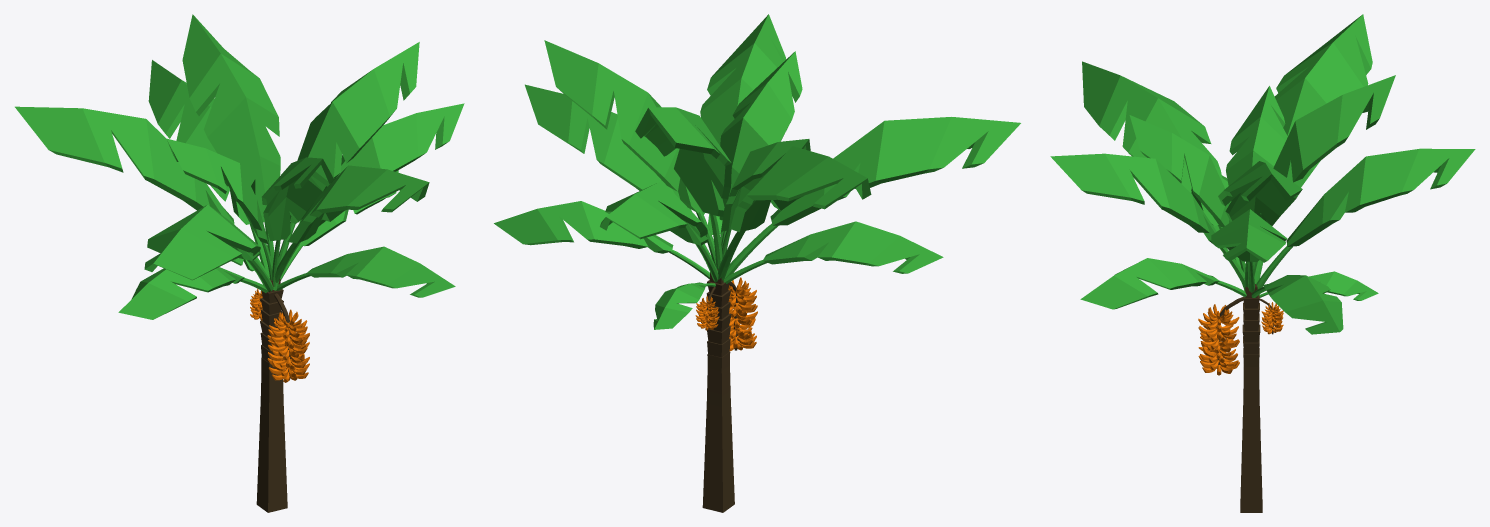
File: BananaTree.fbx
3 views of the same model, side by side, from view 1: azimuth 30°, elevation 25°; view 2: azimuth 150°, elevation 25°; view 3: azimuth 270°, elevation 25° (orthographic). The views are drawn at different scales.
Parts seen in each view (by area): view 1: BananaTree; view 2: BananaTree; view 3: BananaTree.
Boxes of the visible parts, <box> form: BananaTree: <box>15,14,464,512</box>; BananaTree: <box>494,14,1020,512</box>; BananaTree: <box>1050,14,1475,512</box>.
Bounding box in the file's own units: 601 × 639 × 572.
